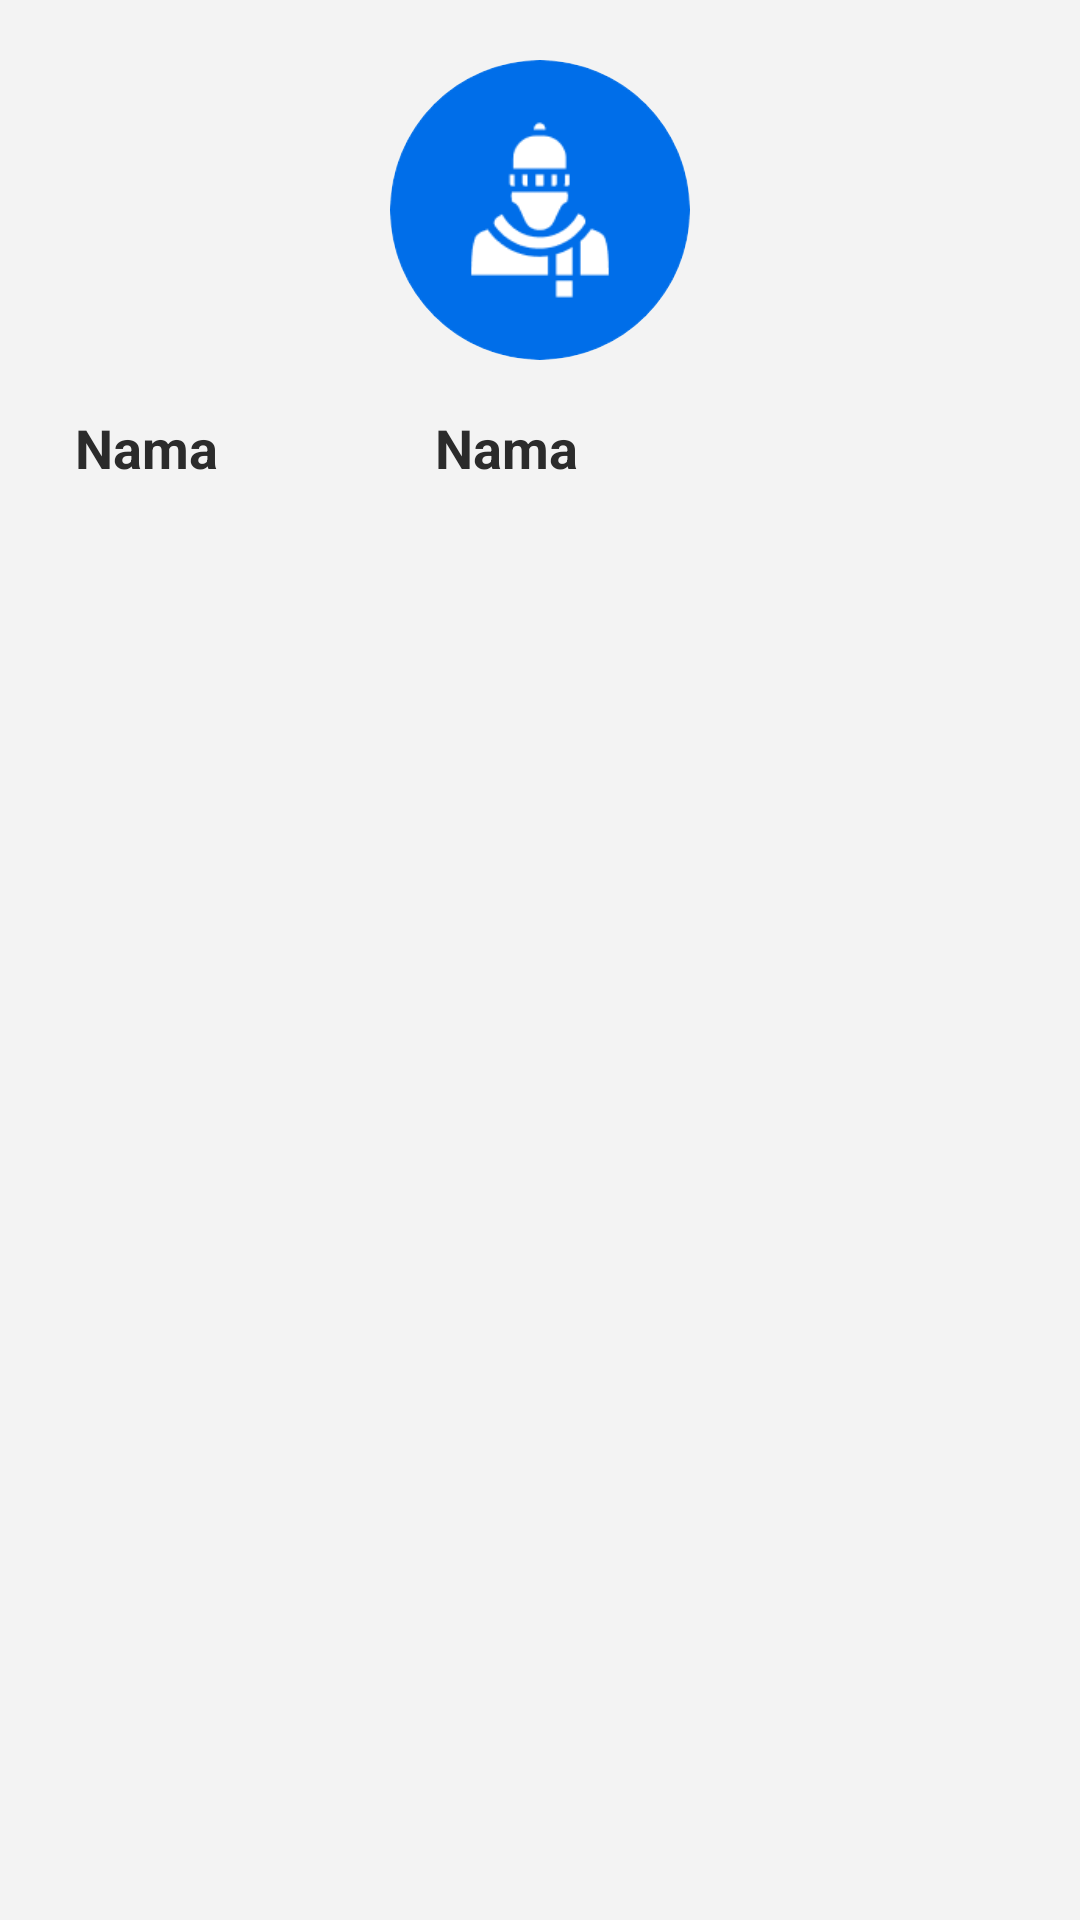

Icon bounding boxes for this 1080×1920 phone screenshot, format (x1, y1, x2, y2):
avatarhome: (390, 60, 690, 360)
